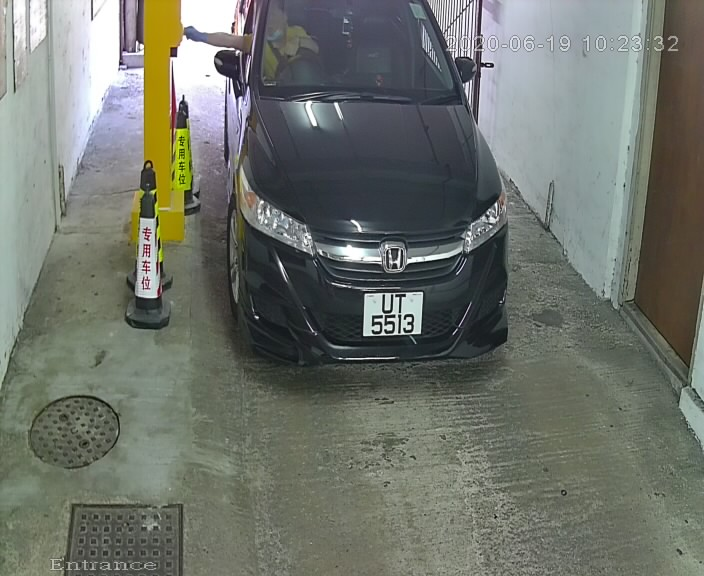privatecar: (205, 3, 519, 381)
